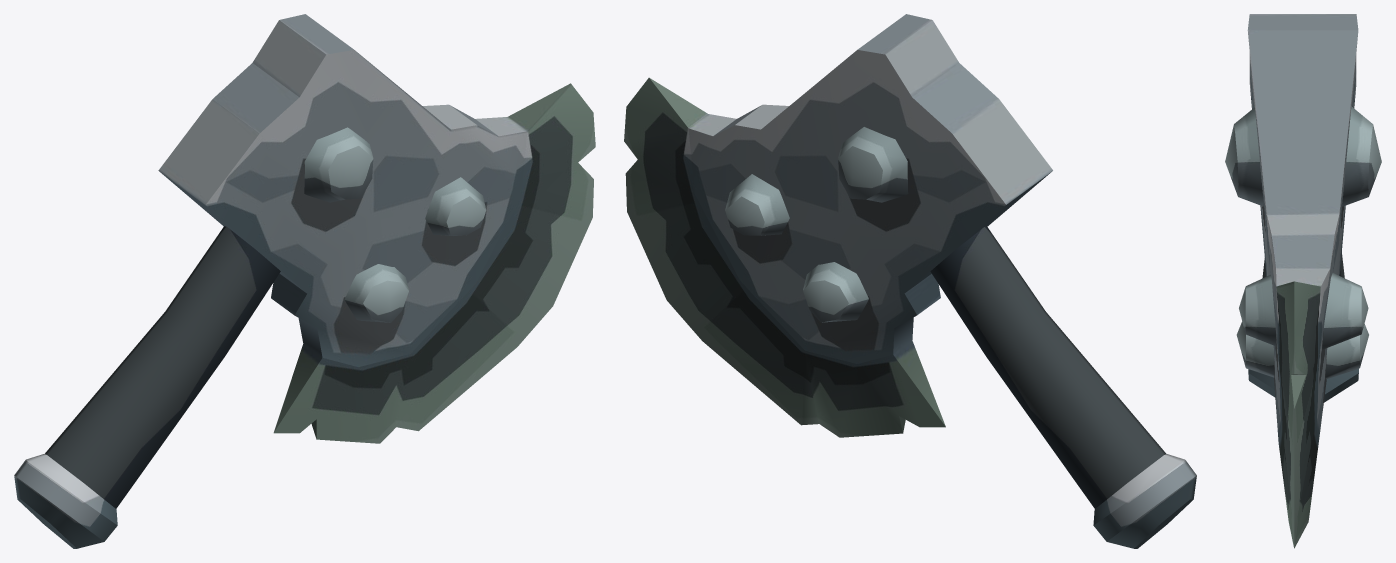
Rendered from Stone_03.FBX.
3 renders of one model, left to right at view 1: azimuth 30°, elevation 25°; view 2: azimuth 150°, elevation 25°; view 3: azimuth 270°, elevation 25°, orthographic. The views are drawn at different scales.
Visible parts, largest first — view 1: Stone_03; view 2: Stone_03; view 3: Stone_03.
Part boxes in pixels (left/top/right/bottom): Stone_03: left=14, top=14, right=595, bottom=548; Stone_03: left=624, top=14, right=1196, bottom=548; Stone_03: left=1225, top=14, right=1381, bottom=548.
Size of the model in its own units: 75.7 by 57.44 by 15.83.
